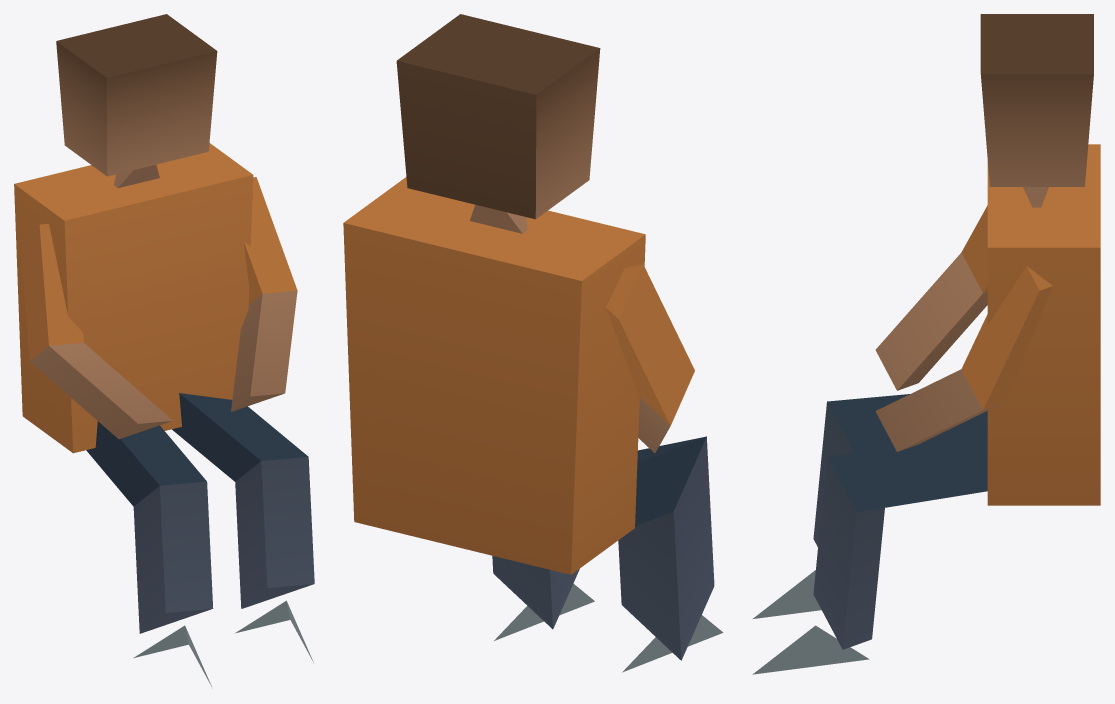
File: fan-09.glb
3 renders of one model, left to right at view 1: azimuth 30°, elevation 25°; view 2: azimuth 150°, elevation 25°; view 3: azimuth 270°, elevation 25°, orthographic. The views are drawn at different scales.
Visible parts, largest first — view 1: fan-09; view 2: fan-09; view 3: fan-09.
Boxes of the visible parts, left/top/right/bottom form: fan-09: left=14, top=14, right=314, bottom=688; fan-09: left=343, top=14, right=723, bottom=672; fan-09: left=752, top=14, right=1100, bottom=674.
Bounding box in the file's own units: 0.7375 × 1.47 × 0.77.
